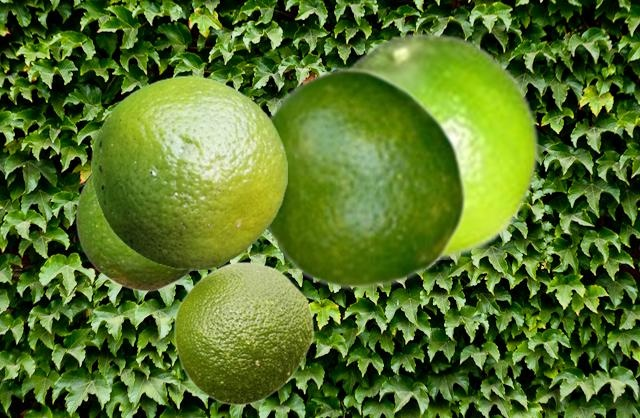calamansi: (266, 66, 467, 289), (344, 31, 539, 258), (91, 75, 286, 269), (173, 261, 313, 405), (75, 173, 192, 291)
